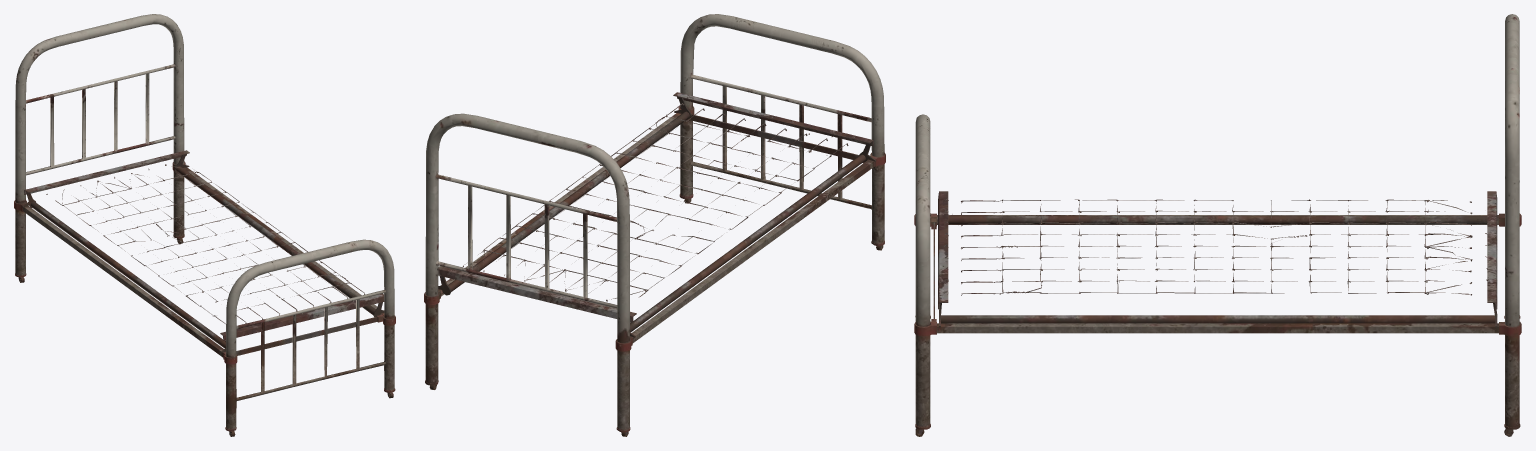
Rendered from old_bed_frame.glb.
3 views of the same model, side by side, from view 1: azimuth 30°, elevation 25°; view 2: azimuth 150°, elevation 25°; view 3: azimuth 270°, elevation 25° (orthographic). The views are drawn at different scales.
Parts seen in each view (by area): view 1: old_bed_frame; view 2: old_bed_frame; view 3: old_bed_frame.
Boxes of the visible parts, x1,y1,x2,y2 form: old_bed_frame: [14, 14, 395, 436]; old_bed_frame: [424, 14, 885, 436]; old_bed_frame: [914, 14, 1521, 436].
Bounding box in the file's own units: 0.9047 × 1.2 × 2.
Materials: 1 (1 with a texture image).
